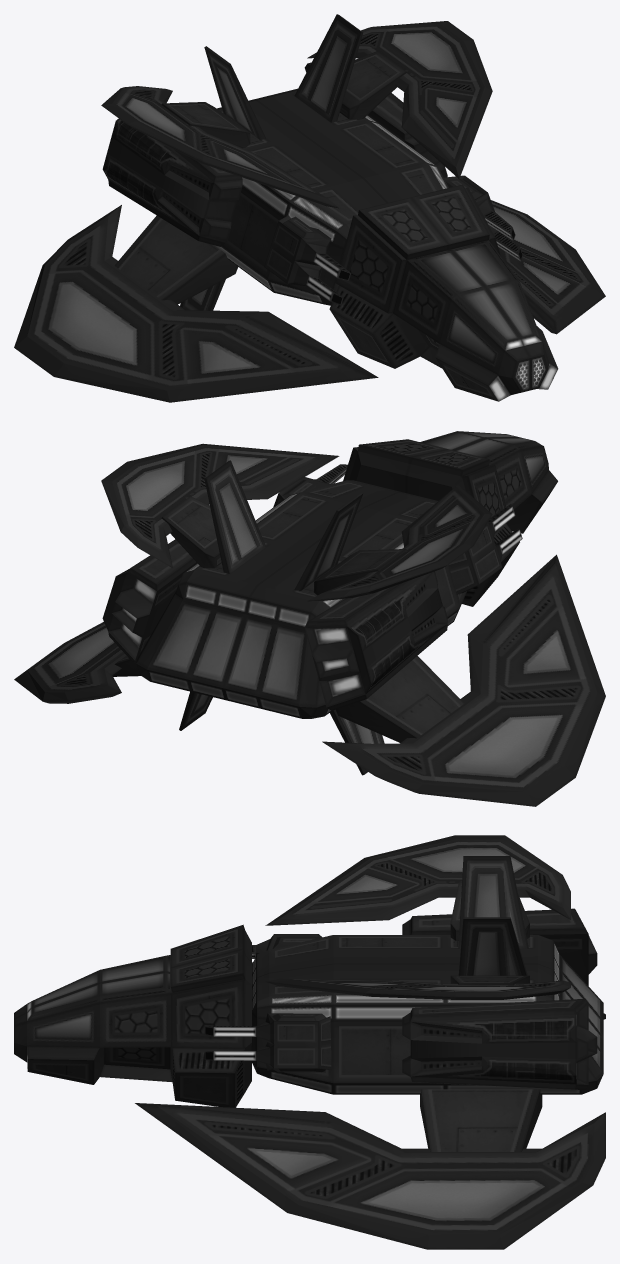
Rendered from astraTalonFleet_FighterA.FBX.
3 views of the same model, one above another, from view 1: azimuth 30°, elevation 25°; view 2: azimuth 150°, elevation 25°; view 3: azimuth 270°, elevation 25° (orthographic). The views are drawn at different scales.
Visible parts, largest first — view 1: FighterAModel; view 2: FighterAModel; view 3: FighterAModel.
Boxes of the visible parts, left/top/right/bottom form: FighterAModel: left=14, top=14, right=605, bottom=402; FighterAModel: left=14, top=431, right=605, bottom=806; FighterAModel: left=14, top=835, right=605, bottom=1249.
Size of the model in its own units: 549 by 563 by 261.
